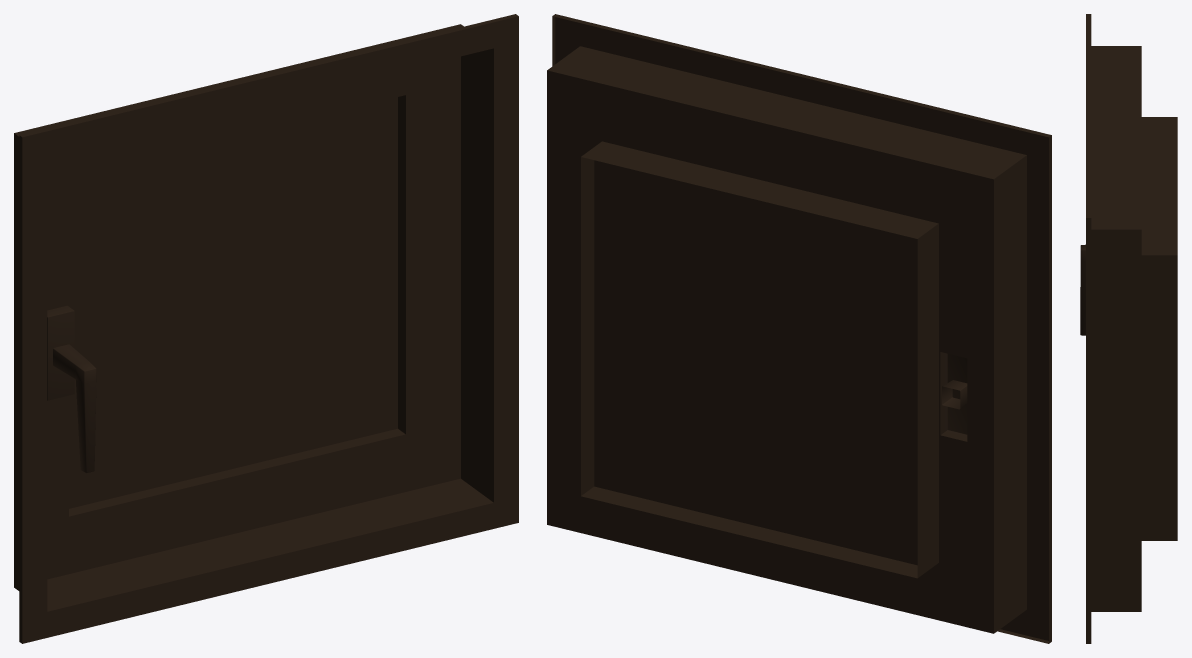
Rendered from MUR_fenetre.FBX.
The picture shows the model from 3 angles, left to right: view 1: azimuth 30°, elevation 25°; view 2: azimuth 150°, elevation 25°; view 3: azimuth 270°, elevation 25°; orthographic projection. The views are drawn at different scales.
Parts seen in each view (by area): view 1: MUR_fenetre, MUR_fenetre_verre, MUR_fenetre_poignee; view 2: MUR_fenetre, MUR_fenetre_verre; view 3: MUR_fenetre, MUR_fenetre_poignee.
Part boxes in pixels (x1,y1,x2,y2): MUR_fenetre: [14, 14, 518, 643]; MUR_fenetre_verre: [69, 97, 397, 508]; MUR_fenetre_poignee: [53, 344, 96, 473]; MUR_fenetre: [547, 14, 1051, 643]; MUR_fenetre_verre: [594, 160, 917, 565]; MUR_fenetre: [1086, 14, 1177, 643]; MUR_fenetre_poignee: [1080, 244, 1085, 335].
Bounding box in the file's own units: 45.14 × 44 × 9.09.
